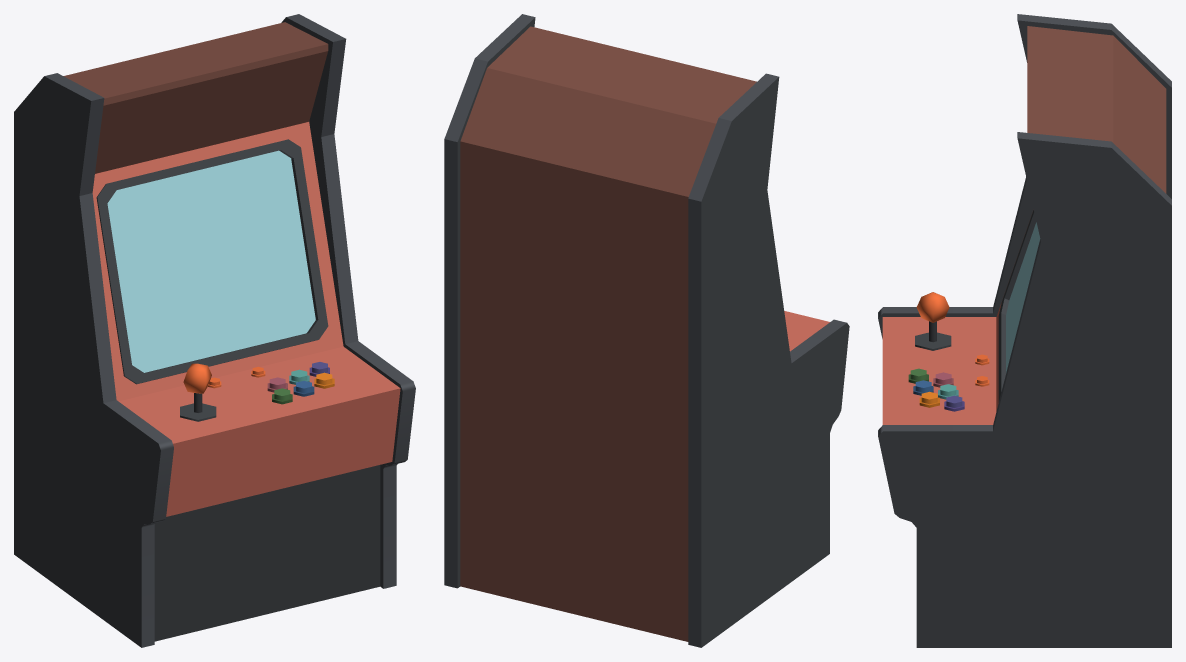
Rendered from SM_GameArea_RecreationalMachines_14.fbx.
The picture shows the model from 3 angles, left to right: view 1: azimuth 30°, elevation 25°; view 2: azimuth 150°, elevation 25°; view 3: azimuth 270°, elevation 25°; orthographic projection.
Visible parts, largest first — view 1: SM_GameArea_RecreationalMachines_14; view 2: SM_GameArea_RecreationalMachines_14; view 3: SM_GameArea_RecreationalMachines_14.
Part boxes in pixels (bbox=[...]): SM_GameArea_RecreationalMachines_14: bbox=[14, 14, 415, 647]; SM_GameArea_RecreationalMachines_14: bbox=[444, 14, 849, 647]; SM_GameArea_RecreationalMachines_14: bbox=[878, 14, 1171, 647].
Size of the model in its own units: 3.47 by 6.63 by 3.46.
Materials: 2 (1 with a texture image).
